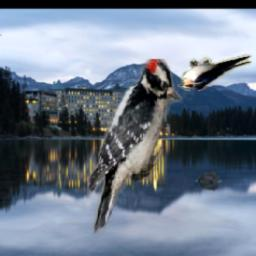Swallow: (179, 54, 253, 91)
Woodpecker: (88, 59, 184, 235)
